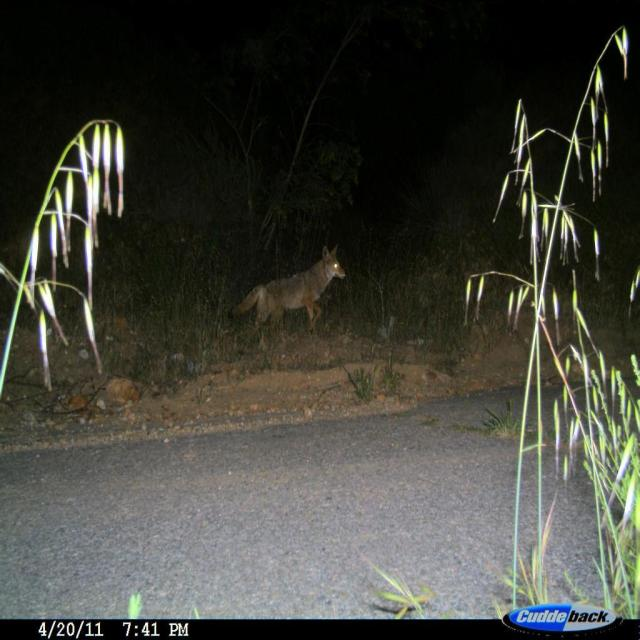coyote: (224, 241, 351, 350)
